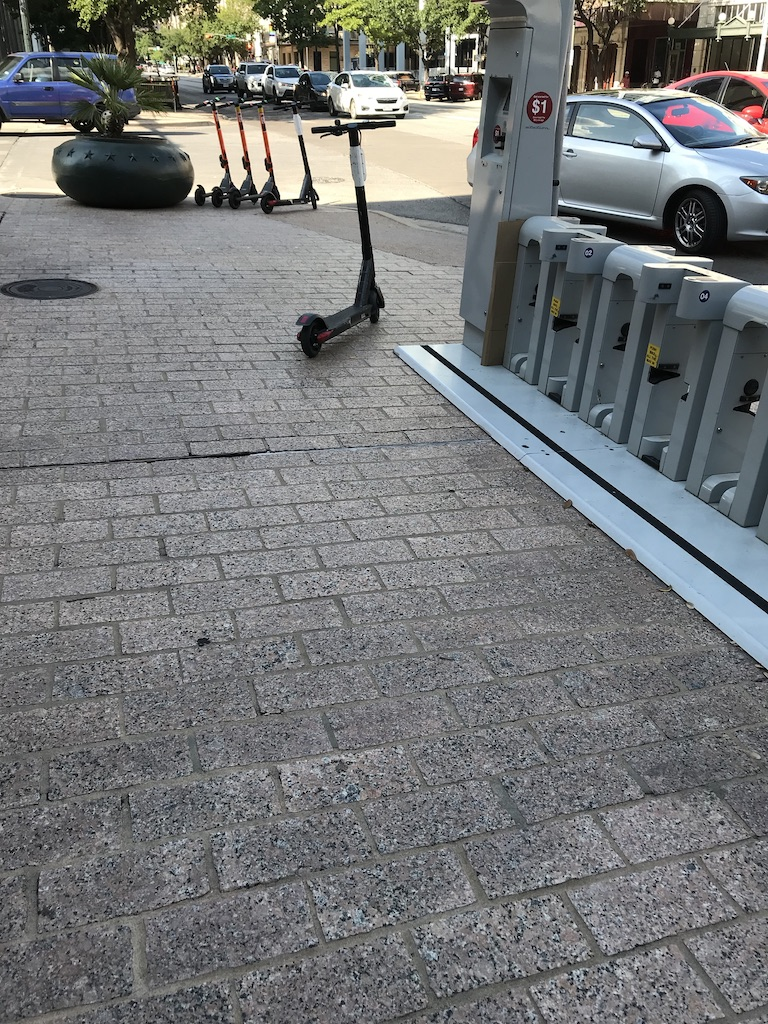scooter: (296, 121, 397, 358), (261, 99, 320, 215), (228, 99, 281, 210), (212, 97, 258, 207), (195, 97, 237, 206)
